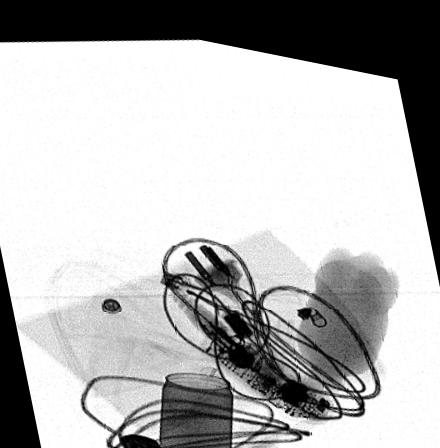Lighter: (117, 427, 165, 448)
